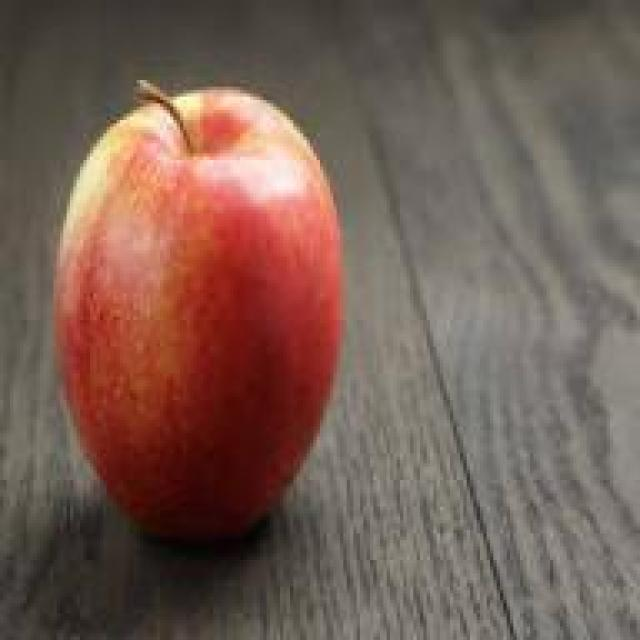apple: (60, 93, 343, 537)
